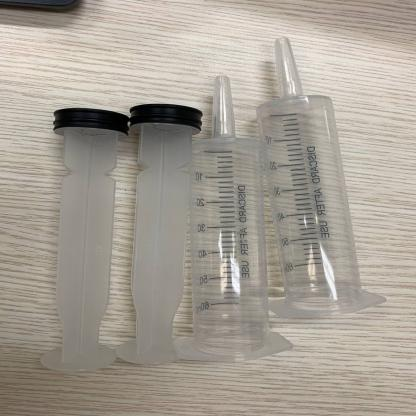dry: (252, 32, 393, 316), (172, 68, 284, 365), (110, 98, 193, 361), (38, 105, 116, 373)
